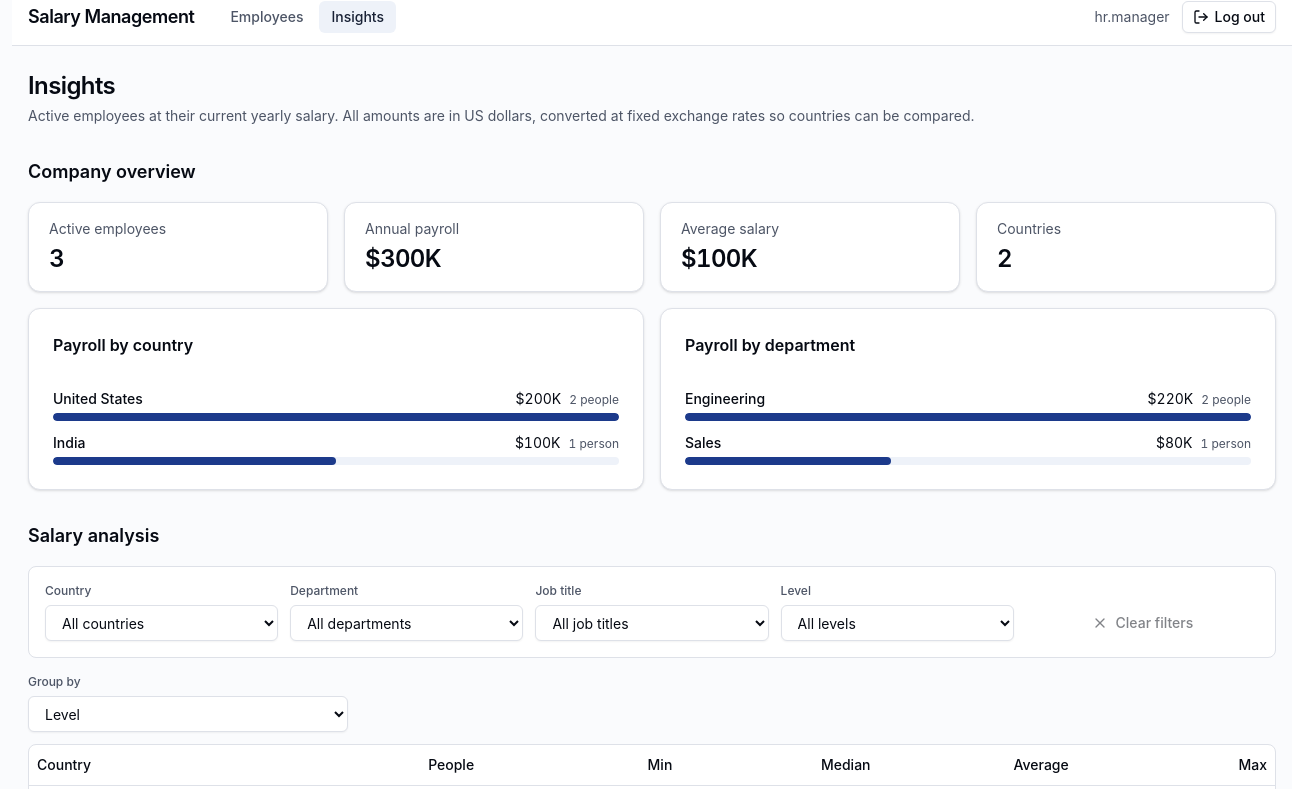
Test case: insights page › salary analysis › goes back to the clean address when the default grouping is chosen again
This screenshot has width=1292, height=789.
Select "Country" in the dropdown labelled "Group by" at coordinates (188, 714), box x1=28 y1=696 x2=348 y2=732
(page scrolled)
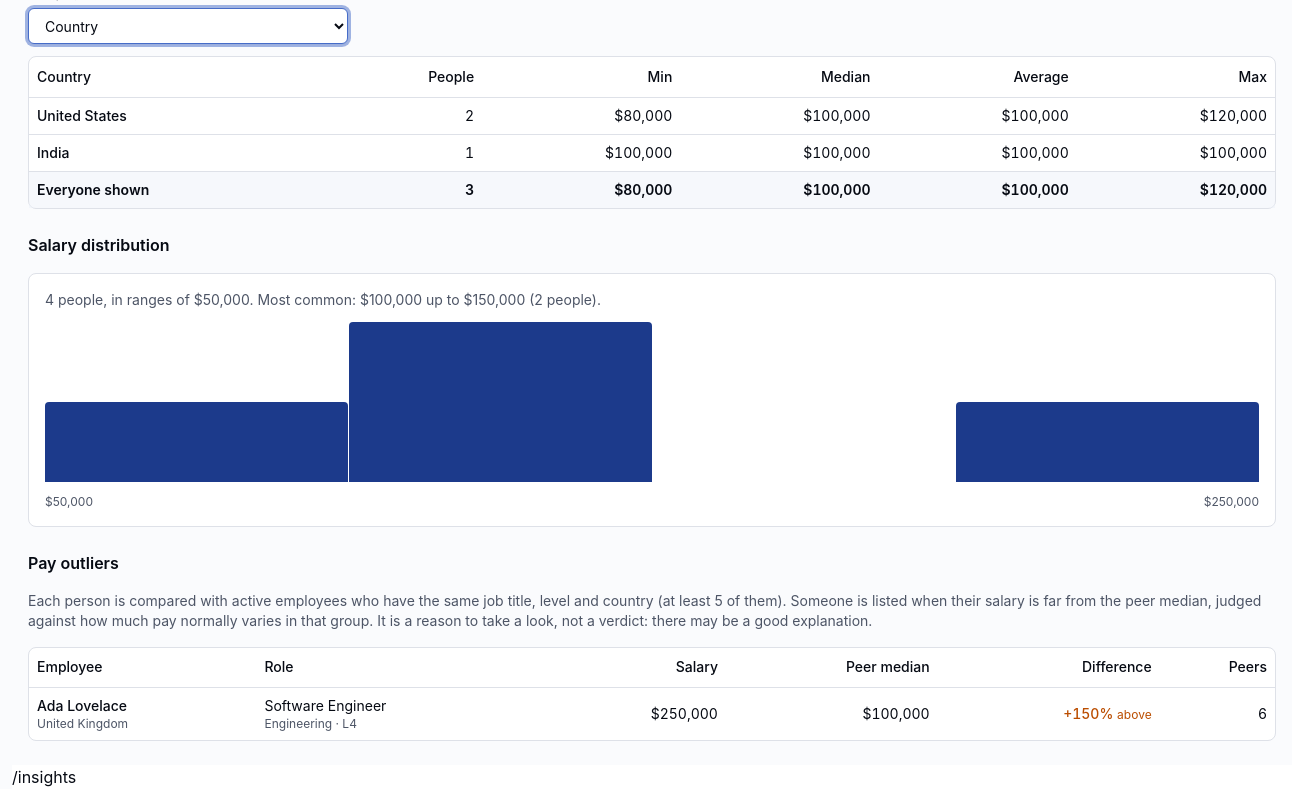
Now the text with test id "location" reads "/insights", box x1=12 y1=767 x2=76 y2=787
